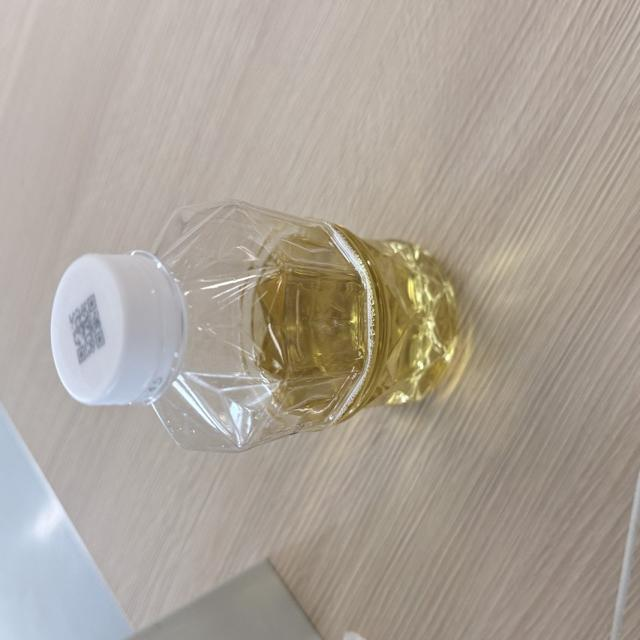medium: (50, 202, 456, 450)
